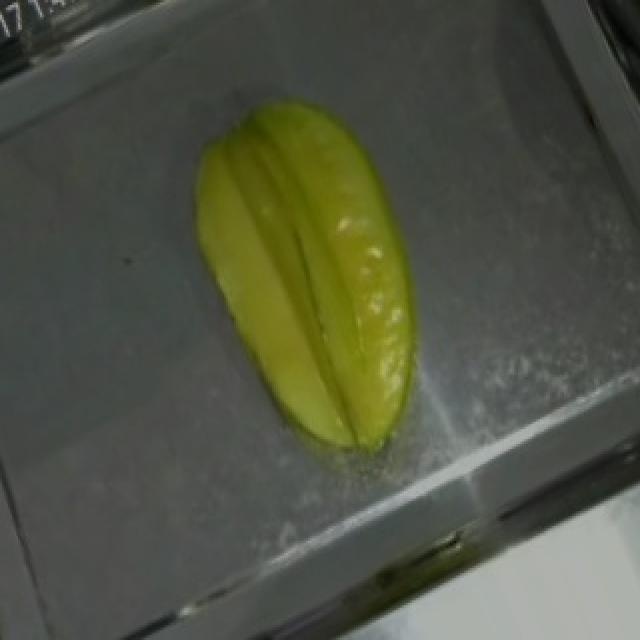fruit: (124, 49, 510, 483)
